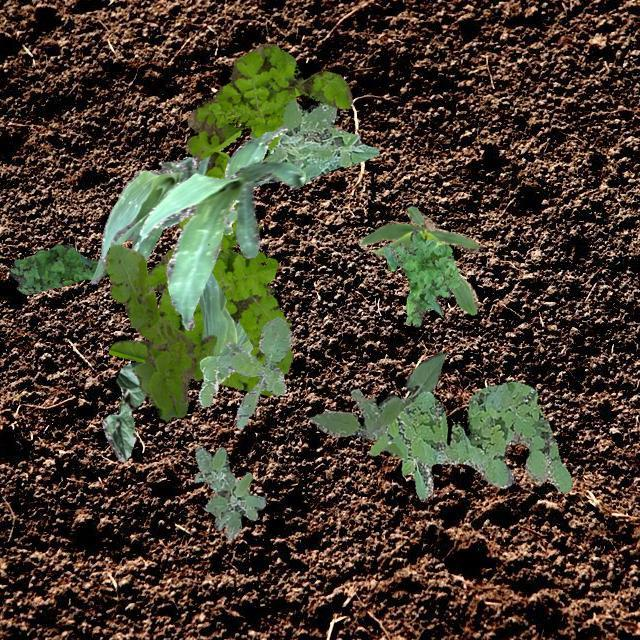crop: (138, 160, 304, 330), (160, 124, 302, 233), (90, 156, 198, 282), (358, 205, 478, 314), (198, 271, 252, 384), (101, 361, 146, 462), (376, 350, 444, 408)
weed: (108, 42, 352, 394), (368, 380, 570, 500), (104, 242, 215, 420), (248, 98, 378, 182), (198, 316, 292, 428), (382, 228, 460, 326), (308, 388, 412, 458), (192, 446, 264, 538), (6, 244, 106, 294)
